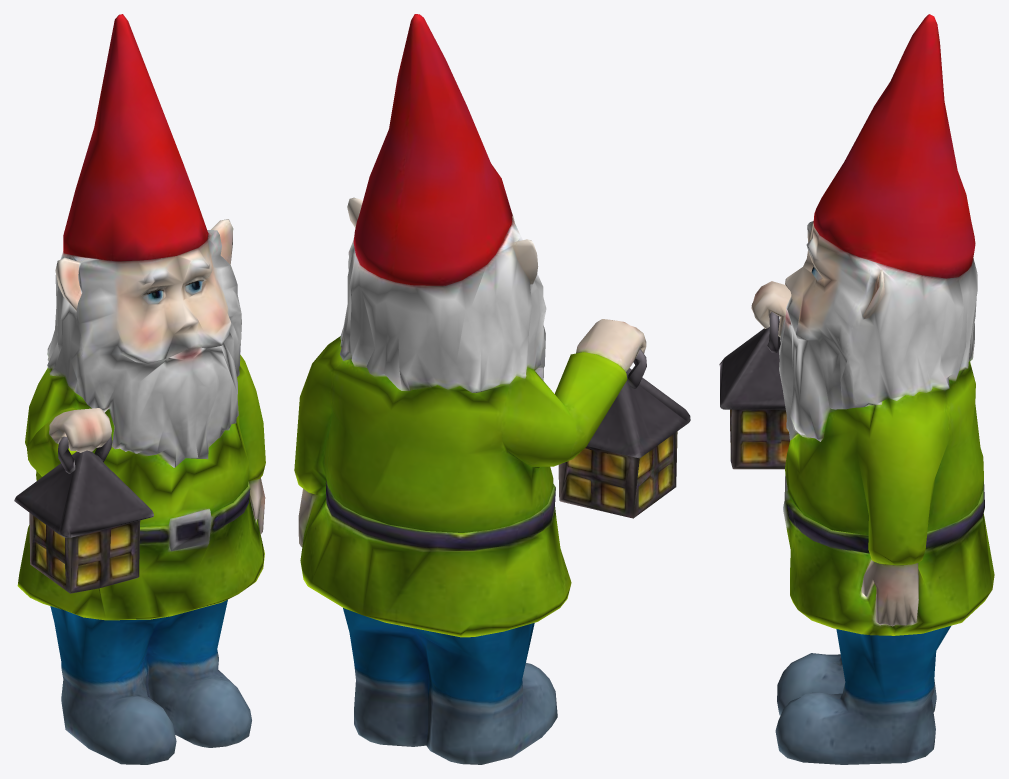
File: garden_gnome.glb
3 renders of one model, left to right at view 1: azimuth 30°, elevation 25°; view 2: azimuth 150°, elevation 25°; view 3: azimuth 270°, elevation 25°, orthographic. The views are drawn at different scales.
Visible parts, largest first — view 1: garden_gnome; view 2: garden_gnome; view 3: garden_gnome.
Part boxes in pixels (bbox=[...]): garden_gnome: bbox=[14, 14, 265, 764]; garden_gnome: bbox=[294, 14, 690, 764]; garden_gnome: bbox=[719, 14, 994, 764].
Bounding box in the file's own units: 0.2574 × 0.5984 × 0.2092.
1 material, 1 textured.
